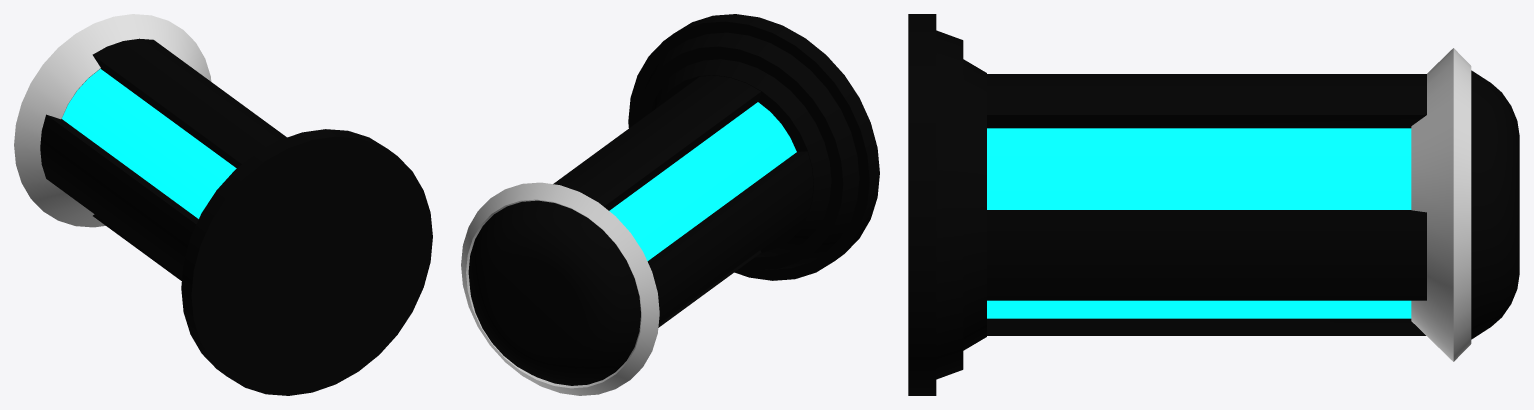
File: CashCow1.fbx
3 views of the same model, side by side, from view 1: azimuth 30°, elevation 25°; view 2: azimuth 150°, elevation 25°; view 3: azimuth 270°, elevation 25° (orthographic). The views are drawn at different scales.
Visible parts, largest first — view 1: Cylinder, Cylinder.004, Cylinder.001, Livet2.001; view 2: Cylinder, Livet.001, Cylinder.004, Cylinder.001, Livet2.001; view 3: Cylinder.004, Cylinder.001, Cylinder, Livet2.001, Livet.001.
Boxes of the visible parts, x1=… form: Cylinder: x1=181, y1=129, x2=432, y2=395; Cylinder.004: x1=40, y1=38, x2=286, y2=280; Cylinder.001: x1=62, y1=69, x2=236, y2=218; Livet2.001: x1=14, y1=14, x2=211, y2=227; Cylinder: x1=628, y1=14, x2=879, y2=280; Livet.001: x1=468, y1=200, x2=640, y2=385; Cylinder.004: x1=553, y1=75, x2=813, y2=327; Cylinder.001: x1=609, y1=102, x2=796, y2=261; Livet2.001: x1=461, y1=182, x2=659, y2=395; Cylinder.004: x1=987, y1=74, x2=1426, y2=335; Cylinder.001: x1=987, y1=128, x2=1411, y2=318; Cylinder: x1=908, y1=14, x2=986, y2=395; Livet2.001: x1=1411, y1=48, x2=1471, y2=361; Livet.001: x1=1471, y1=70, x2=1519, y2=339.
Bounding box in the file's own units: 3312 × 3312 × 5293.
